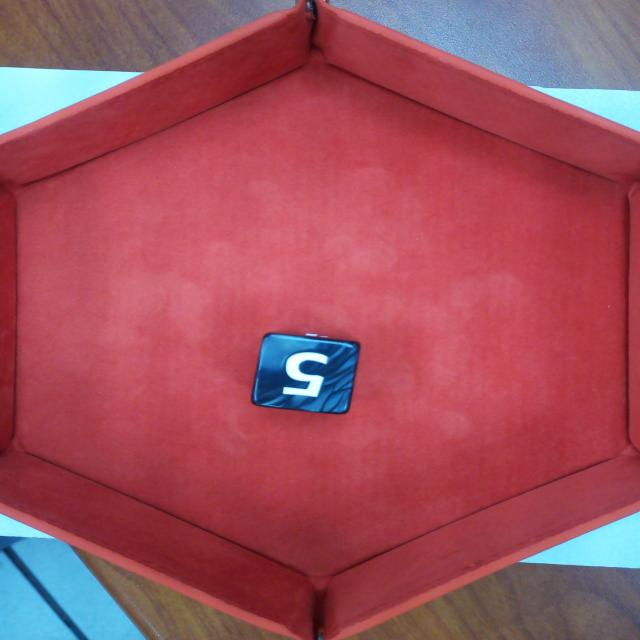dice: (248, 329, 364, 417)
